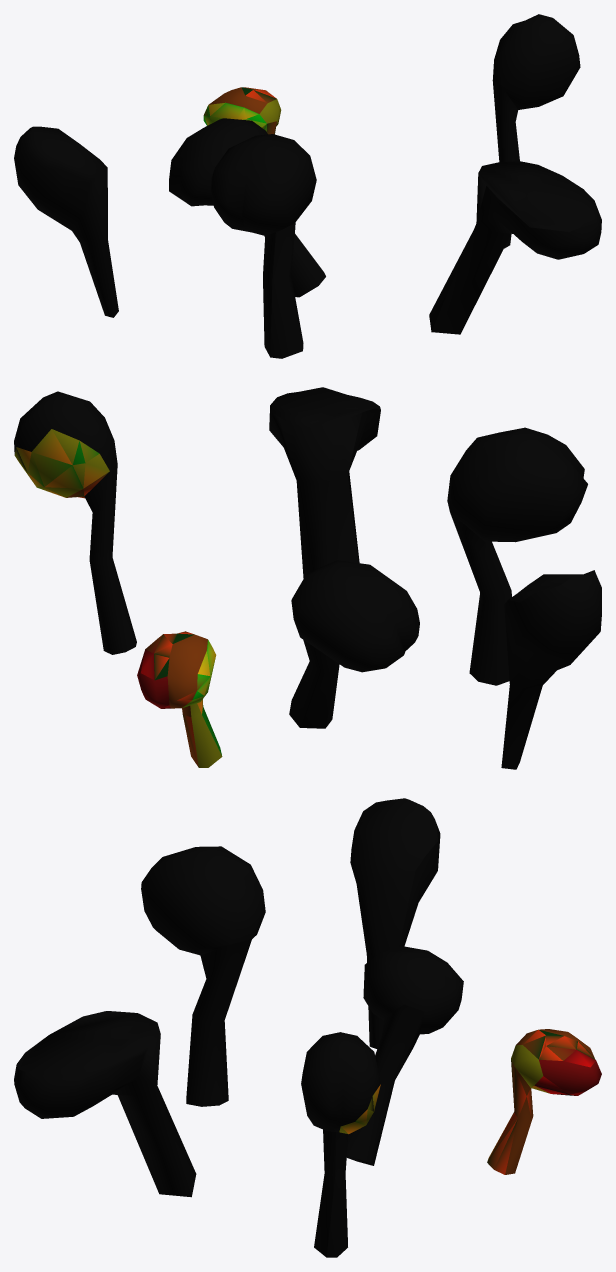
Rendered from fel_g_mushroom.fbx.
3 renders of one model, top to bottom at view 1: azimuth 30°, elevation 25°; view 2: azimuth 150°, elevation 25°; view 3: azimuth 270°, elevation 25°, orthographic. The views are drawn at different scales.
Parts seen in each view (by area): view 1: M_Mushroom; view 2: M_Mushroom; view 3: M_Mushroom.
Part boxes in pixels (bbox=[...]): M_Mushroom: bbox=[14, 14, 601, 358]; M_Mushroom: bbox=[14, 387, 601, 769]; M_Mushroom: bbox=[14, 798, 601, 1257].
Bounding box in the file's own units: 61.49 × 25.57 × 52.9.
